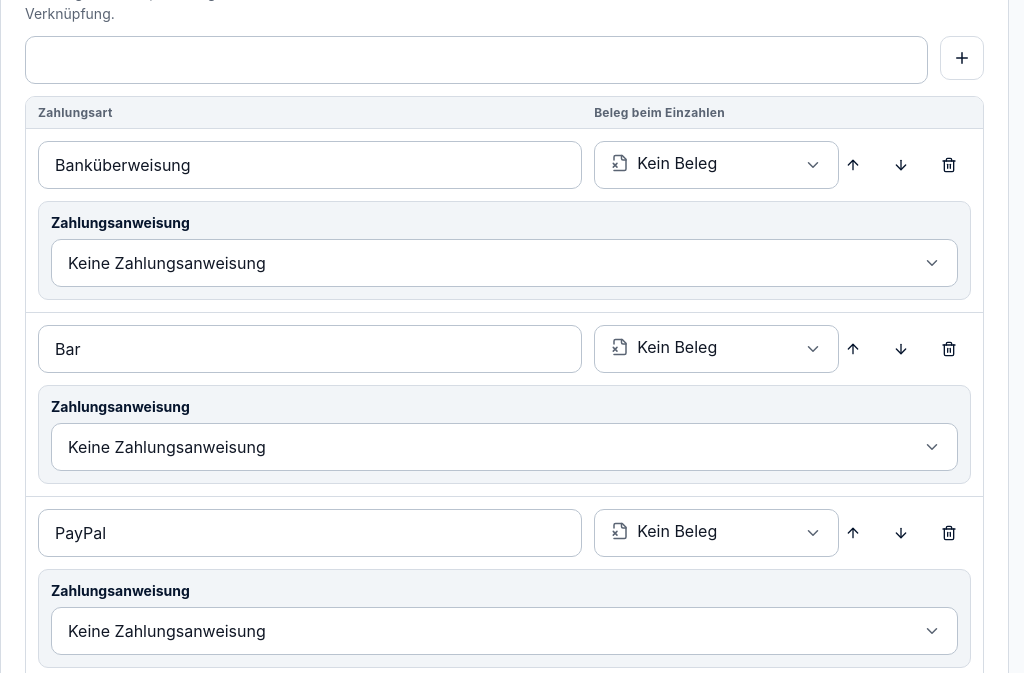
Scenario: BehaviorSettingsPanel › keeps the external-account switch disabled until finance edits are saved
The width and height of the screenshot is (1024, 673).
(page scrolled)
Type "kasse" into the field showing "Bar" at (310, 349), box x1=38 y1=325 x2=582 y2=373
(page scrolled)
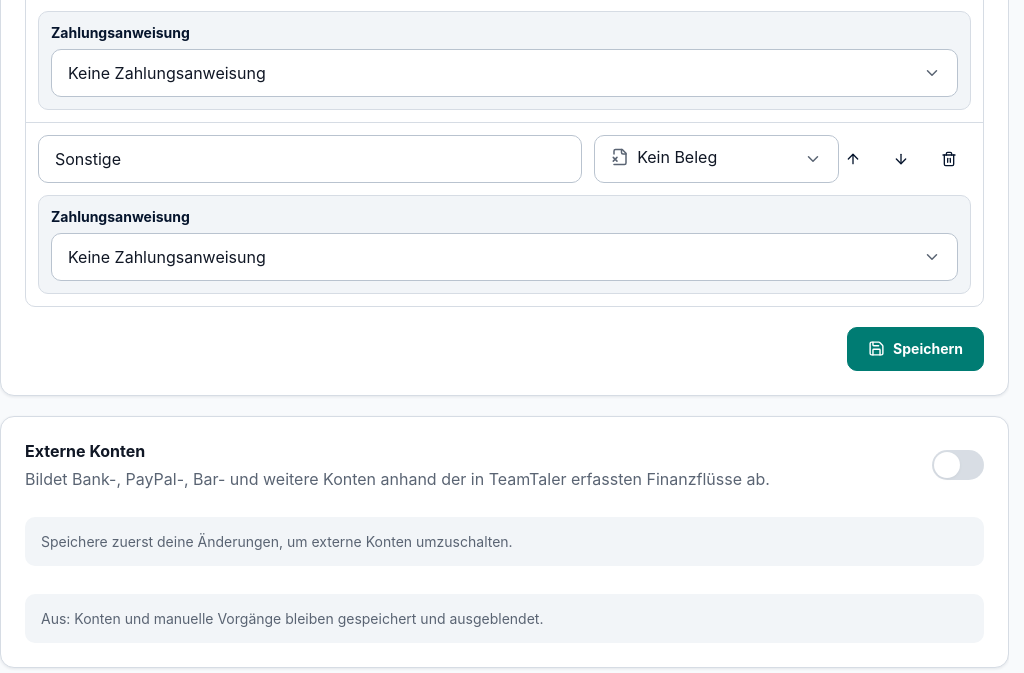
Expected: the switch named "Externe Konten für diese Gruppe aktivieren" is disabled, x1=932 y1=450 x2=984 y2=480
Expected: the text "Speichere zuerst deine Änderungen, um externe Konten umzuschalten." is shown, x1=25 y1=517 x2=984 y2=566
Click the button "Speichern" at (916, 349), box x1=847 y1=327 x2=984 y2=371
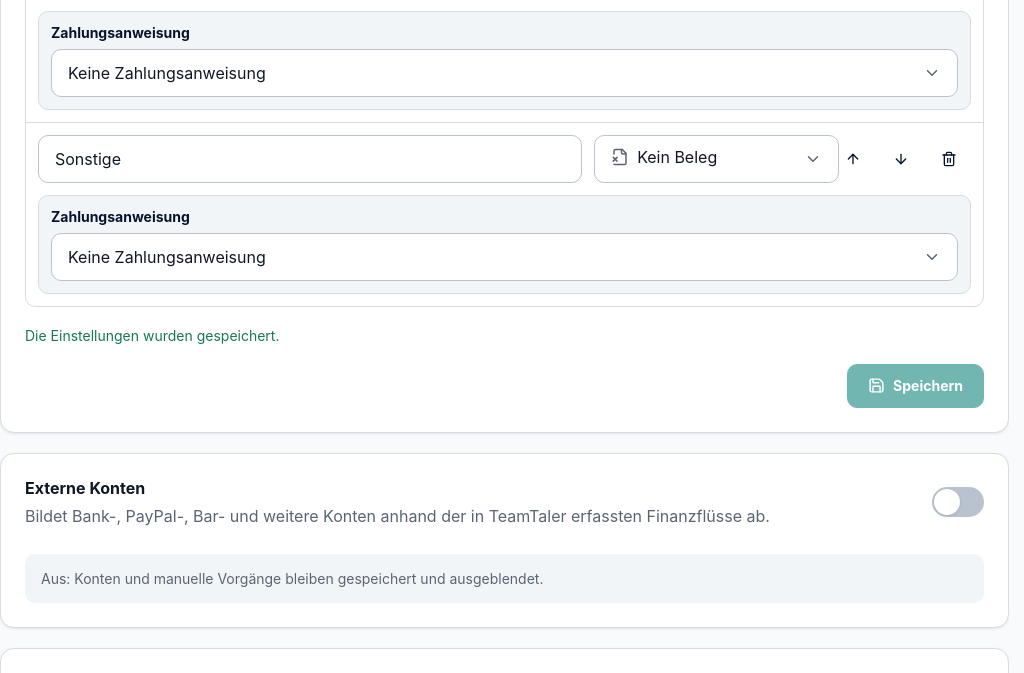
Expected: the switch named "Externe Konten für diese Gruppe aktivieren" is enabled, x1=932 y1=487 x2=984 y2=517
